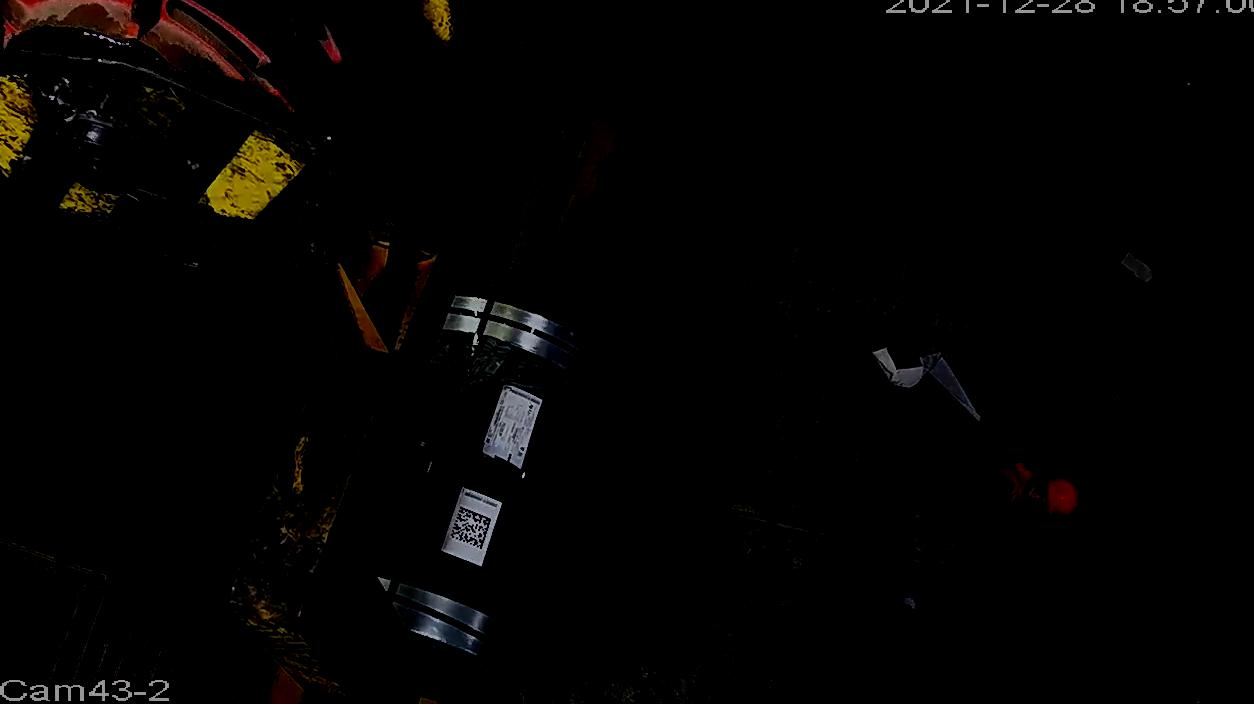data matrix: (449, 505, 494, 552)
